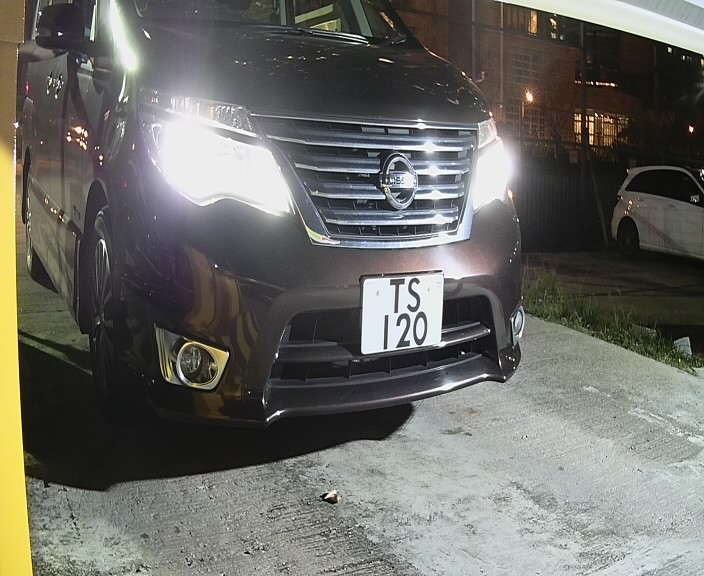Car: (3, 2, 549, 477)
License Plate: (357, 260, 456, 362)
